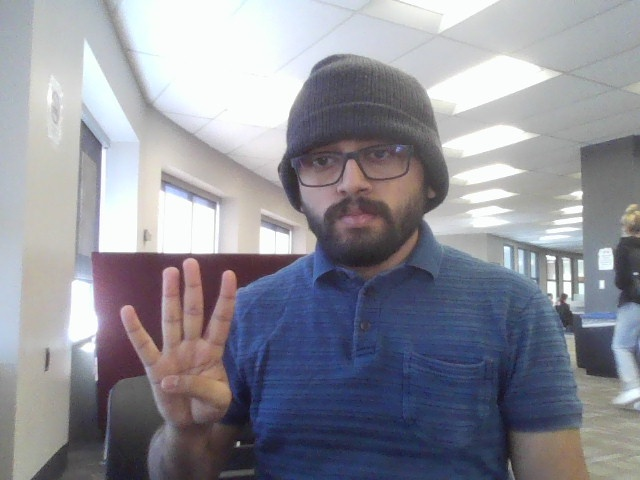start: (113, 247, 244, 438)
